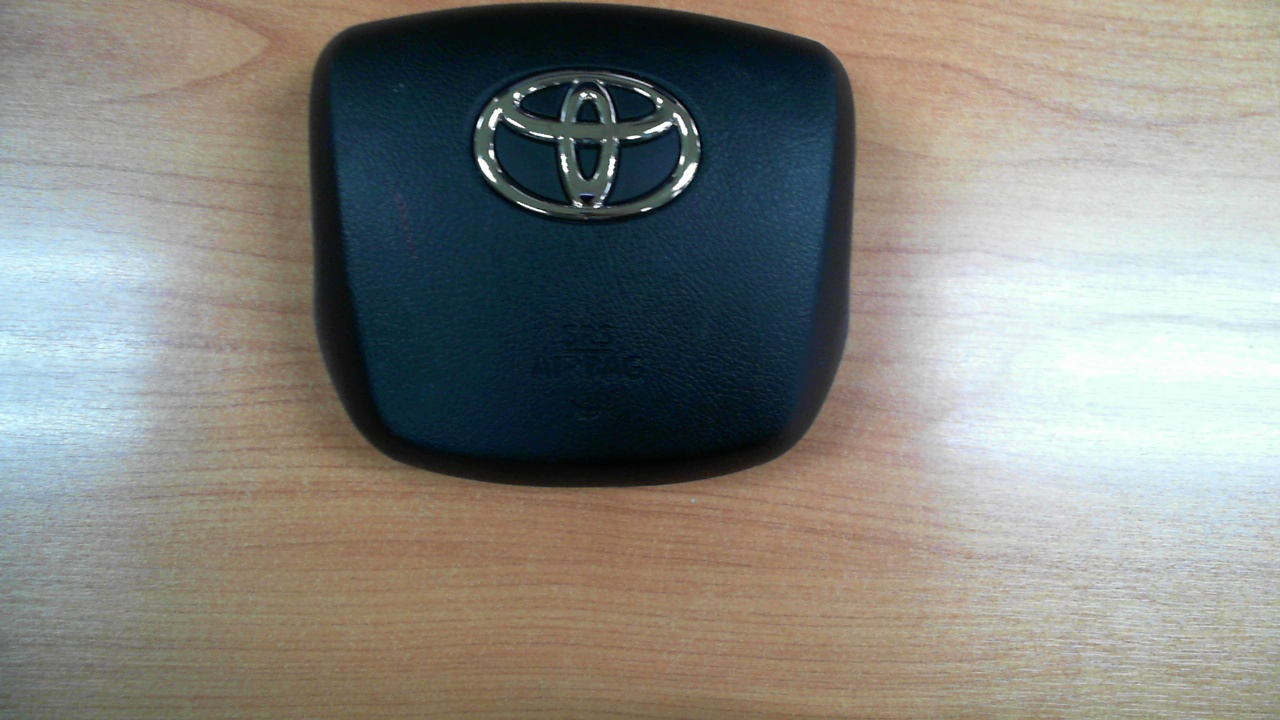Airbag: (305, 2, 855, 485)
Toyota: (473, 70, 702, 217)
